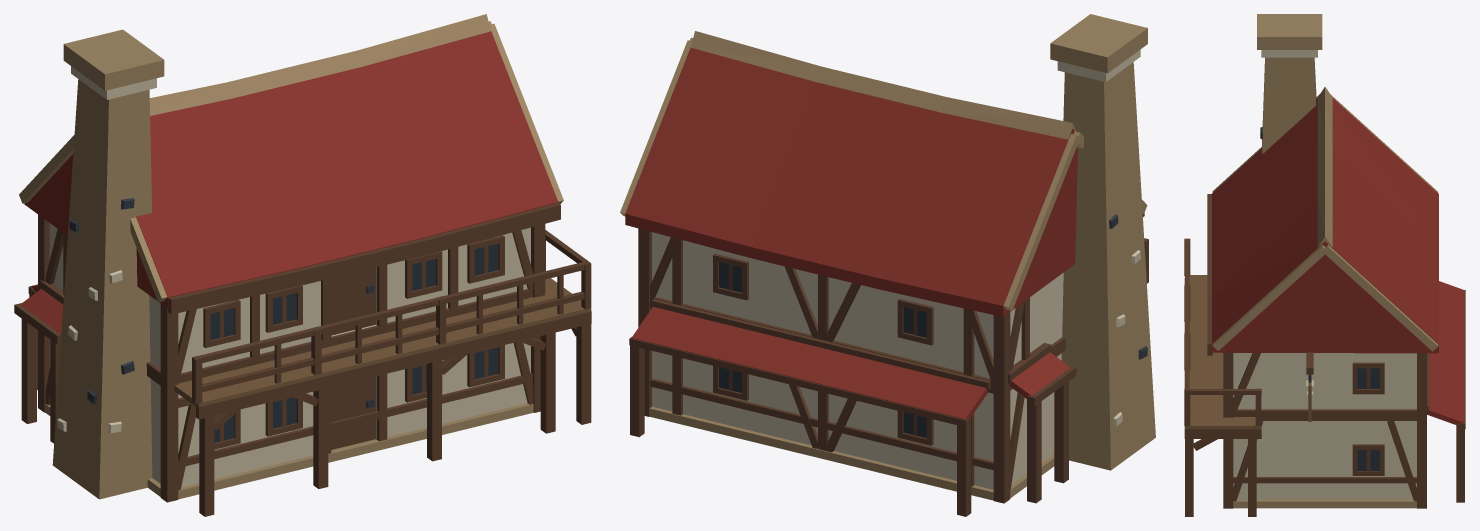
The model's file is village-tavern-4e94e3.glb.
3 views of the same model, side by side, from view 1: azimuth 30°, elevation 25°; view 2: azimuth 150°, elevation 25°; view 3: azimuth 270°, elevation 25° (orthographic). The views are drawn at different scales.
Visible parts, largest first — view 1: tavern-shell, door-leaf, door-upper-leaf; view 2: tavern-shell; view 3: tavern-shell.
Boxes of the visible parts, x1=… form: tavern-shell: x1=14, y1=14, x2=591, y2=516; door-leaf: x1=331, y1=376, x2=375, y2=449; door-upper-leaf: x1=331, y1=267, x2=375, y2=335; tavern-shell: x1=620, y1=14, x2=1155, y2=516; tavern-shell: x1=1184, y1=14, x2=1465, y2=516.
Bounding box in the file's own units: 12.91 × 11 × 8.41.
